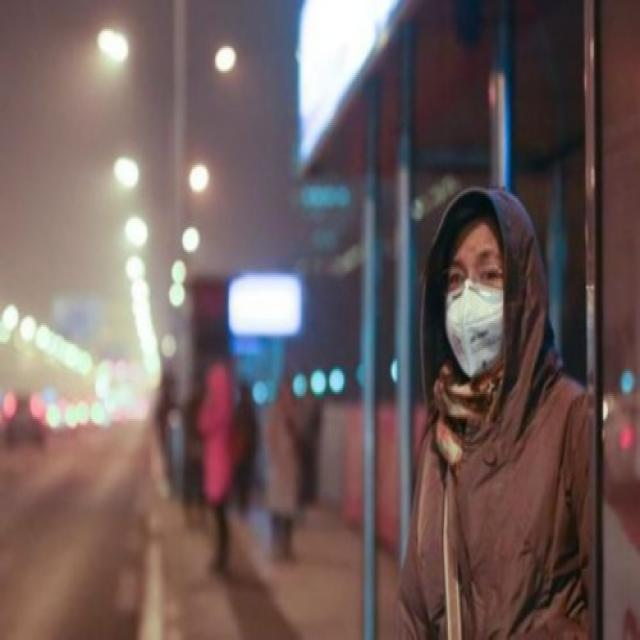mask: (444, 210, 506, 374)
